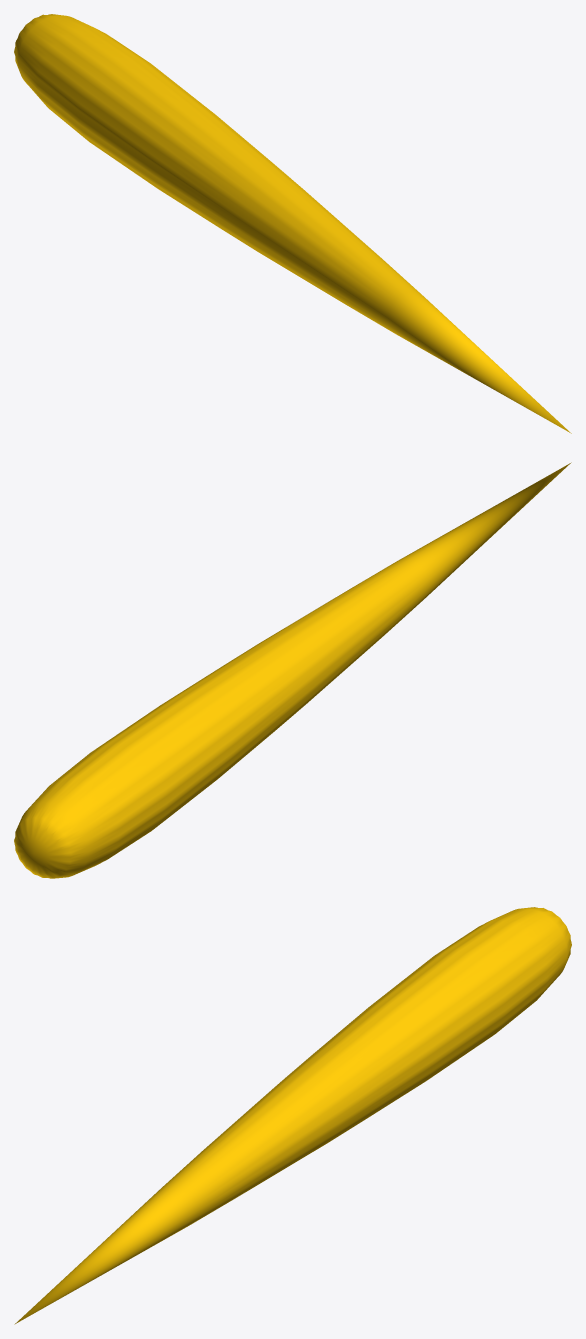
File: bullet.fbx
The picture shows the model from 3 angles, top to bottom: view 1: azimuth 30°, elevation 25°; view 2: azimuth 150°, elevation 25°; view 3: azimuth 330°, elevation 25°; orthographic projection.
Visible parts, largest first — view 1: pCone1; view 2: pCone1; view 3: pCone1.
Boxes of the visible parts, x1=… form: pCone1: x1=14, y1=14, x2=571, y2=433; pCone1: x1=14, y1=462, x2=571, y2=878; pCone1: x1=14, y1=907, x2=571, y2=1324.
Bounding box in the file's own units: 1.52 × 1.52 × 16.58.
